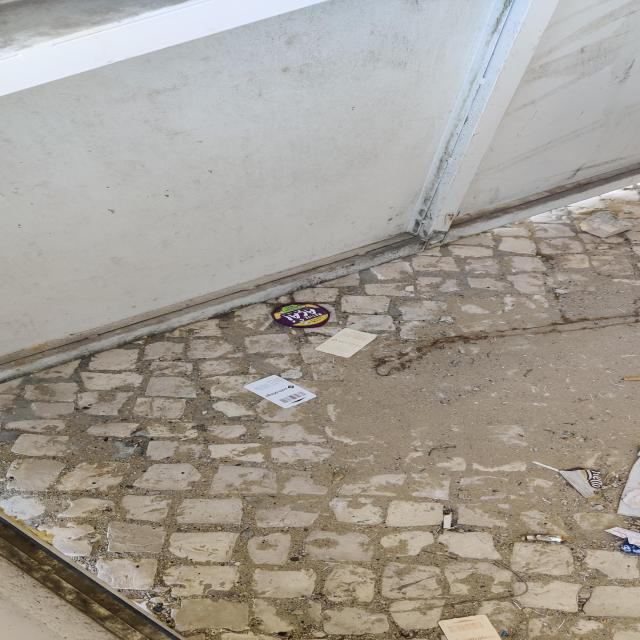litter: (242, 374, 321, 409), (260, 301, 343, 329), (313, 325, 380, 359)
